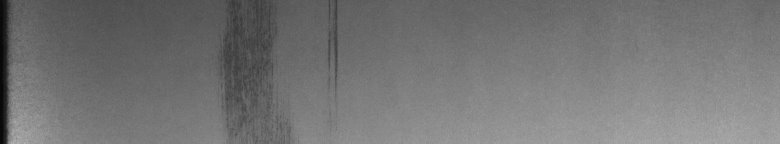ka: (220, 4, 341, 135)
